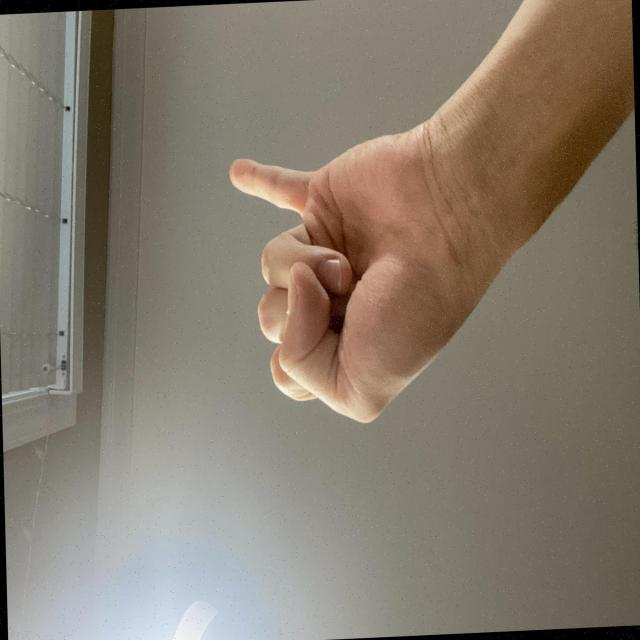J: (148, 297, 409, 640)
